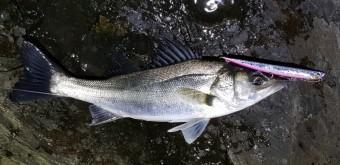fish: (11, 39, 288, 143)
